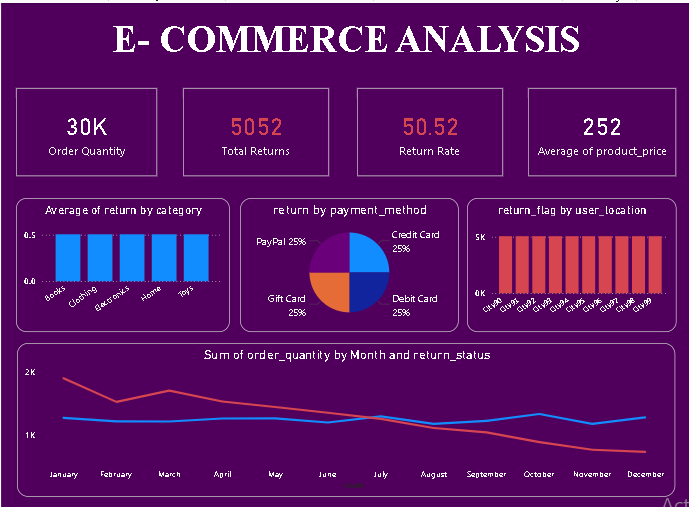

The dashboard page shown, as its layout file describes it:
{"tool":"powerbi","page":{"name":"Overview","canvas":[1280,720],"ordinal":0},"visuals":[{"type":"textbox","box":[302,0,978,120],"z":0},{"type":"textbox","box":[0,0,302,720],"z":1000},{"type":"card","fields":{"Values":["Sum(data.order_quantity)"]},"box":[323.3,120,200,125],"z":2000},{"type":"card","fields":{"Values":["5 1  model_dataset.Total Returns"]},"box":[560,120,206.7,125],"z":3000},{"type":"card","fields":{"Values":["5 1  model_dataset.Return Rate"]},"box":[806.7,120,206.7,125],"z":4000},{"type":"card","fields":{"Values":["Avg(5 1  model_dataset.product_price)"]},"box":[1048.3,120,210,125],"z":5000},{"type":"columnChart","title":"return_flag by user_location","fields":{"Category":["data.user_location"],"Y":["Sum(6 2 final_dataset.return_flag)"]},"box":[961.7,276.7,296.7,190],"z":6000},{"type":"pieChart","title":"return by payment_method","fields":{"Category":["data.payment_method"],"Y":["Sum(6 2 final_dataset.return_flag)"]},"box":[640,276.7,310,190],"z":7000},{"type":"columnChart","title":"Average of return by category","fields":{"Y":["Avg(6 2 final_dataset.return_flag)"],"Category":["data.product_category"]},"box":[323.3,276.7,303.3,190],"z":8000},{"type":"slicer","fields":{"Values":["data.product_category"]},"box":[71.2,466.7,160.6,54.5],"z":9000},{"type":"slicer","fields":{"Values":["data.user_location"]},"box":[71.2,521.2,160.6,62.1],"z":10000},{"type":"slicer","fields":{"Values":["data.payment_method"]},"box":[71.4,572.9,160,60],"z":11000},{"type":"slicer","fields":{"Values":["data.user_gender"]},"box":[71.4,622.9,160,61.4],"z":12000},{"type":"lineChart","fields":{"Category":["data.order_date.Variation.Date Hierarchy.Month"],"Y":["Sum(data.order_quantity)"],"Series":["data.return_status"]},"box":[325,481.7,933.3,218.3],"z":13000},{"type":"pageNavigator","box":[19.8,138.9,262.2,243.8],"z":14000}]}

Visuals, with their boxes on the page's 1280x720 design canvas (x1, y1, x2, y2). These are canvas units, not pixel positions in the 689x507 screenshot, which may show the page scaled, cropped or inside an application window:
textbox: {"left": 302, "top": 0, "right": 1280, "bottom": 120}
textbox: {"left": 0, "top": 0, "right": 302, "bottom": 720}
card - Sum(data.order_quantity): {"left": 323, "top": 120, "right": 523, "bottom": 245}
card - 5 1  model_dataset.Total Returns: {"left": 560, "top": 120, "right": 767, "bottom": 245}
card - 5 1  model_dataset.Return Rate: {"left": 807, "top": 120, "right": 1013, "bottom": 245}
card - Avg(5 1  model_dataset.product_price): {"left": 1048, "top": 120, "right": 1258, "bottom": 245}
"return_flag by user_location" columnChart: {"left": 962, "top": 277, "right": 1258, "bottom": 467}
"return by payment_method" pieChart: {"left": 640, "top": 277, "right": 950, "bottom": 467}
"Average of return by category" columnChart: {"left": 323, "top": 277, "right": 627, "bottom": 467}
slicer - data.product_category: {"left": 71, "top": 467, "right": 232, "bottom": 521}
slicer - data.user_location: {"left": 71, "top": 521, "right": 232, "bottom": 583}
slicer - data.payment_method: {"left": 71, "top": 573, "right": 231, "bottom": 633}
slicer - data.user_gender: {"left": 71, "top": 623, "right": 231, "bottom": 684}
lineChart - data.order_date.Variation.Date Hierarchy.Month x Sum(data.order_quantity): {"left": 325, "top": 482, "right": 1258, "bottom": 700}
pageNavigator: {"left": 20, "top": 139, "right": 282, "bottom": 383}
